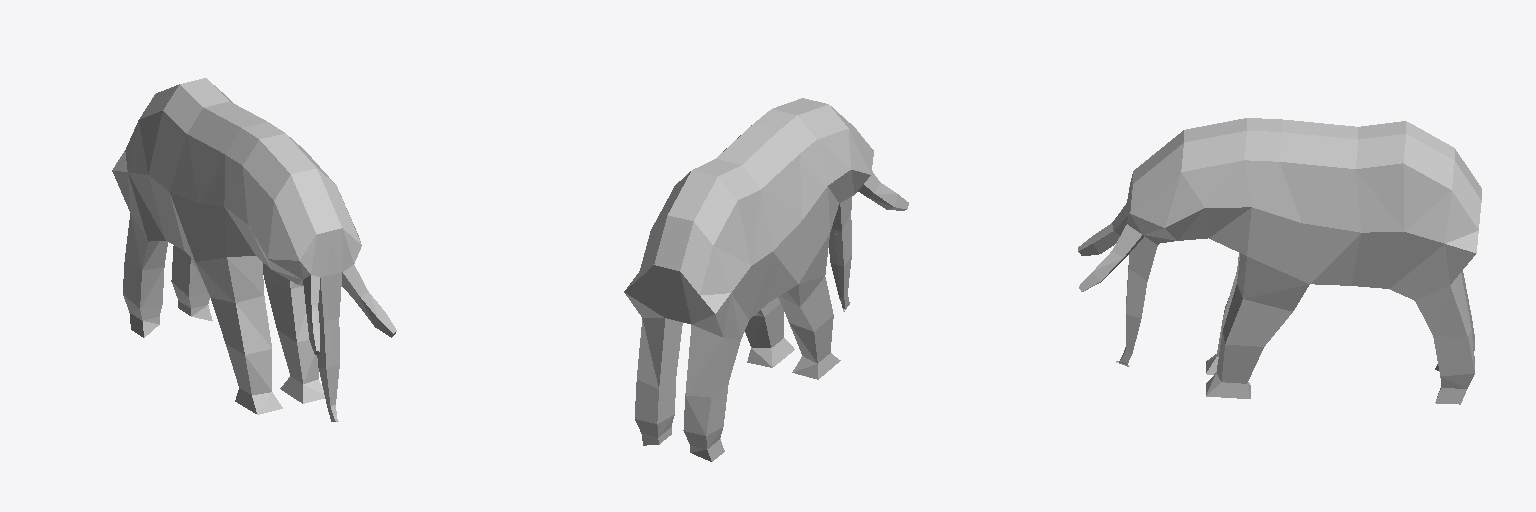
Rendered from elephant.obj.
3 views of the same model, side by side, from view 1: azimuth 30°, elevation 25°; view 2: azimuth 150°, elevation 25°; view 3: azimuth 270°, elevation 25° (orthographic).
Parts seen in each view (by area): view 1: Plane; view 2: Plane; view 3: Plane.
Part boxes in pixels (left/top/right/bottom): Plane: left=112, top=78, right=396, bottom=421; Plane: left=624, top=98, right=908, bottom=461; Plane: left=1078, top=118, right=1481, bottom=404.
Bounding box in the file's own units: 2.11 × 5.82 × 8.08.